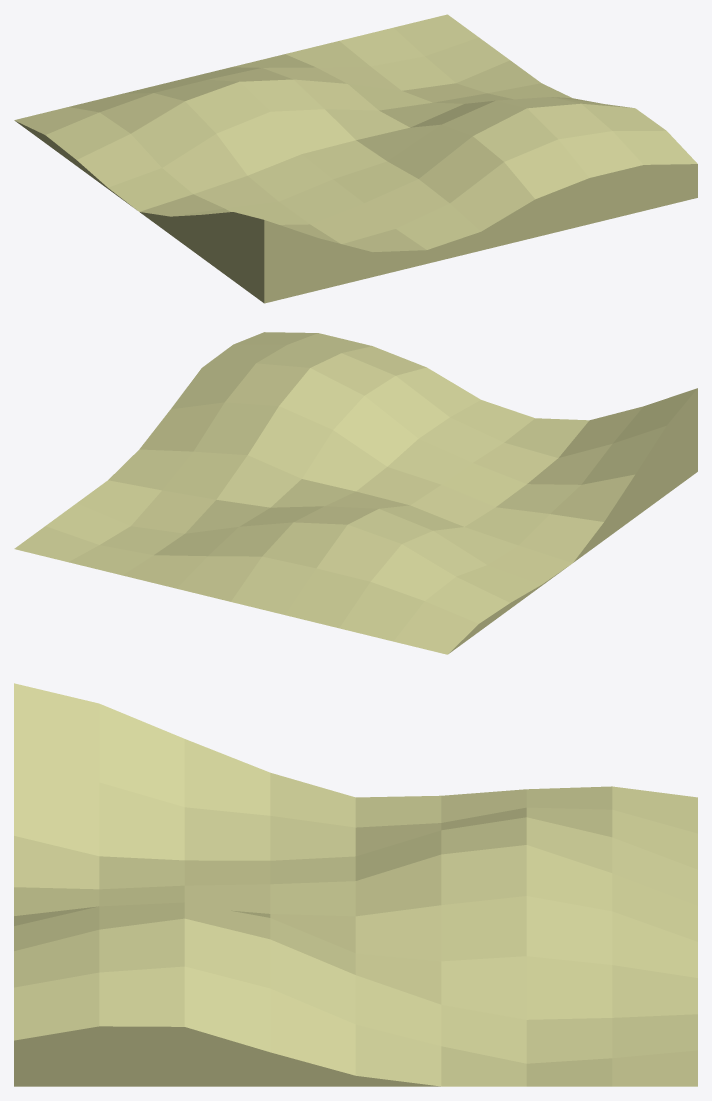
Rendered from Desert.fbx.
The picture shows the model from 3 angles, top to bottom: view 1: azimuth 30°, elevation 25°; view 2: azimuth 150°, elevation 25°; view 3: azimuth 270°, elevation 25°; orthographic projection. The views are drawn at different scales.
Visible parts, largest first — view 1: Plane; view 2: Plane; view 3: Plane.
Boxes of the visible parts, x1=… form: Plane: x1=14, y1=14, x2=697, y2=303; Plane: x1=14, y1=332, x2=697, y2=654; Plane: x1=14, y1=683, x2=697, y2=1086.
Size of the model in its own units: 1000 by 206 by 1000.
